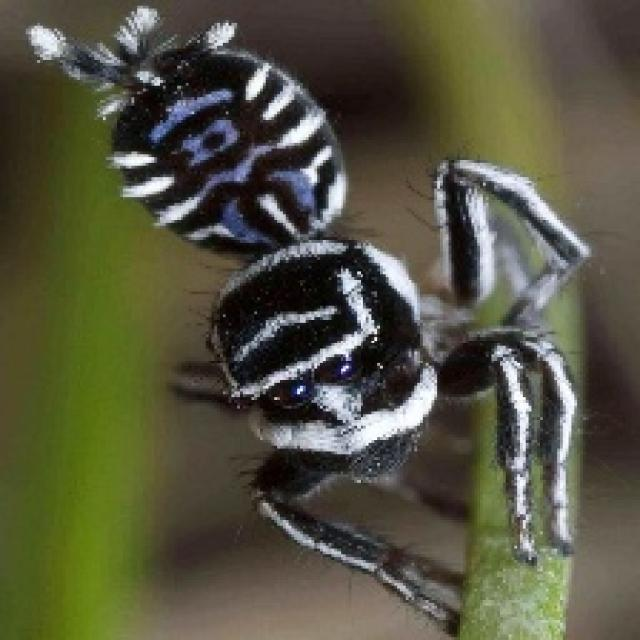Non venomous spider: (35, 12, 507, 490)
